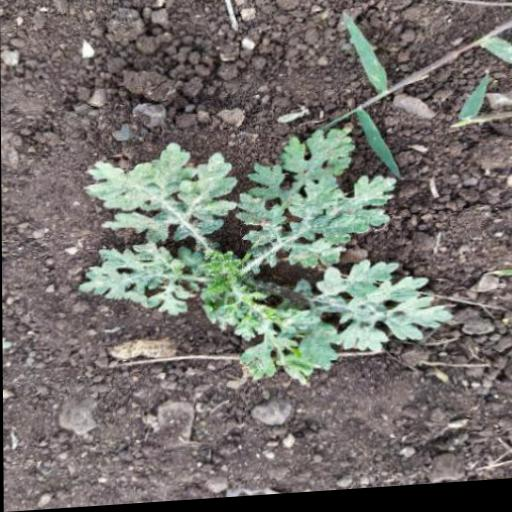weed: (66, 104, 470, 401)
